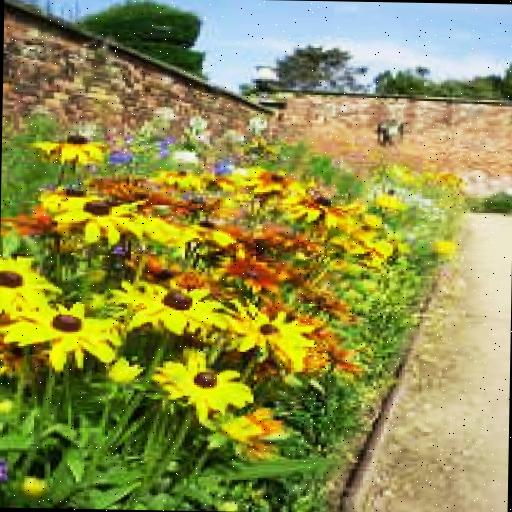sunflower: (0, 300, 127, 364), (206, 300, 312, 368), (154, 346, 252, 412), (110, 280, 224, 336), (46, 188, 148, 243), (0, 258, 59, 306), (36, 131, 108, 164), (232, 166, 304, 199)
